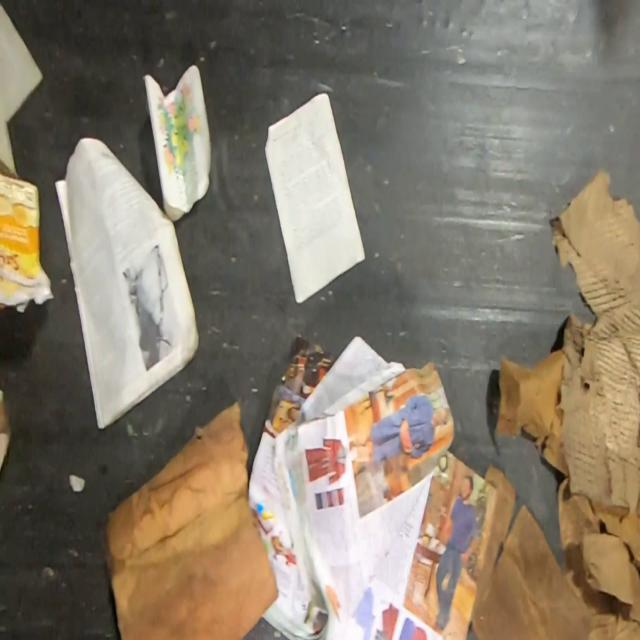cardboard: (490, 164, 640, 640), (100, 396, 279, 640), (470, 460, 592, 640), (142, 62, 213, 224), (0, 172, 55, 314)
